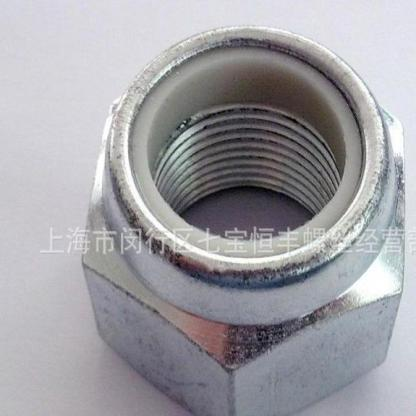FOD: (79, 21, 408, 415)
